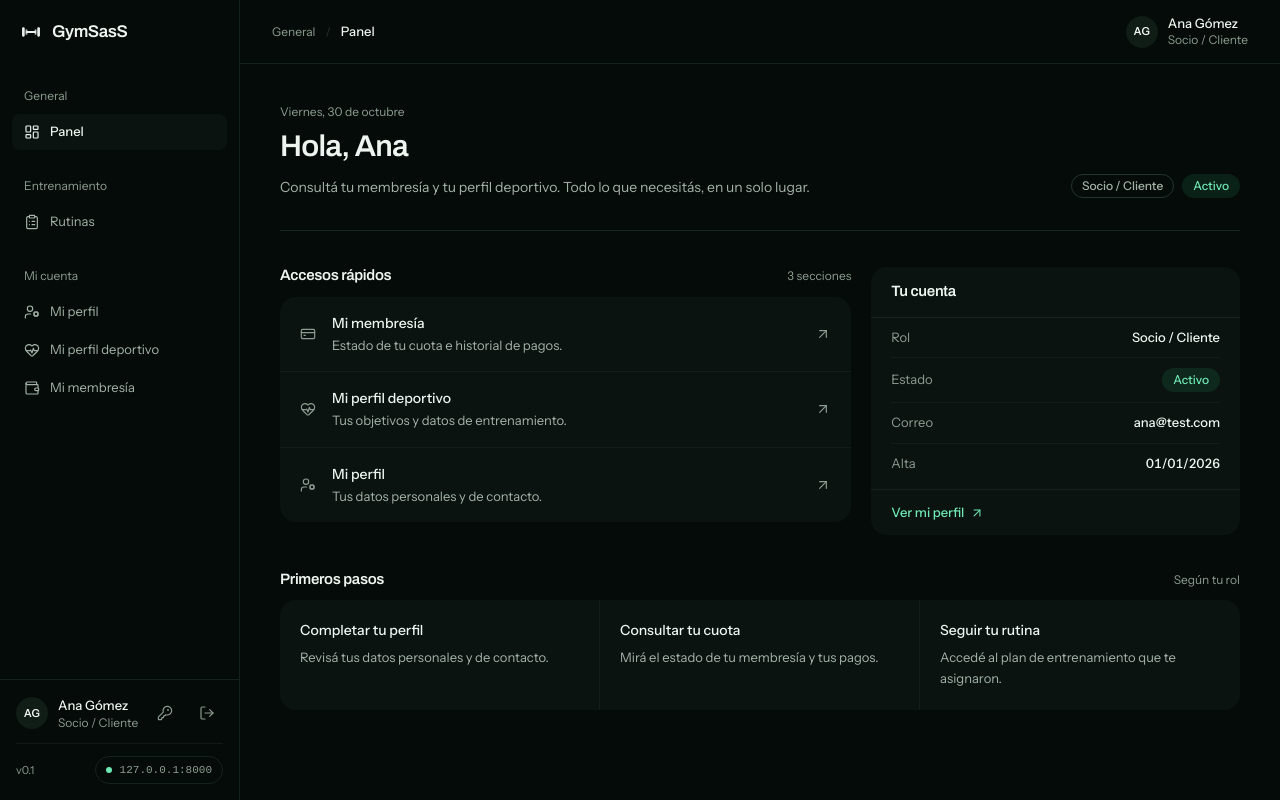
Test: flujo de autenticación › muestra el error del backend si la contraseña actual es incorrecta
Expected: the heading "Hola, Ana" is shown, [280,130,408,162]
Click the button named "Cambiar contraseña" at (165, 713), box [149,697,181,729]
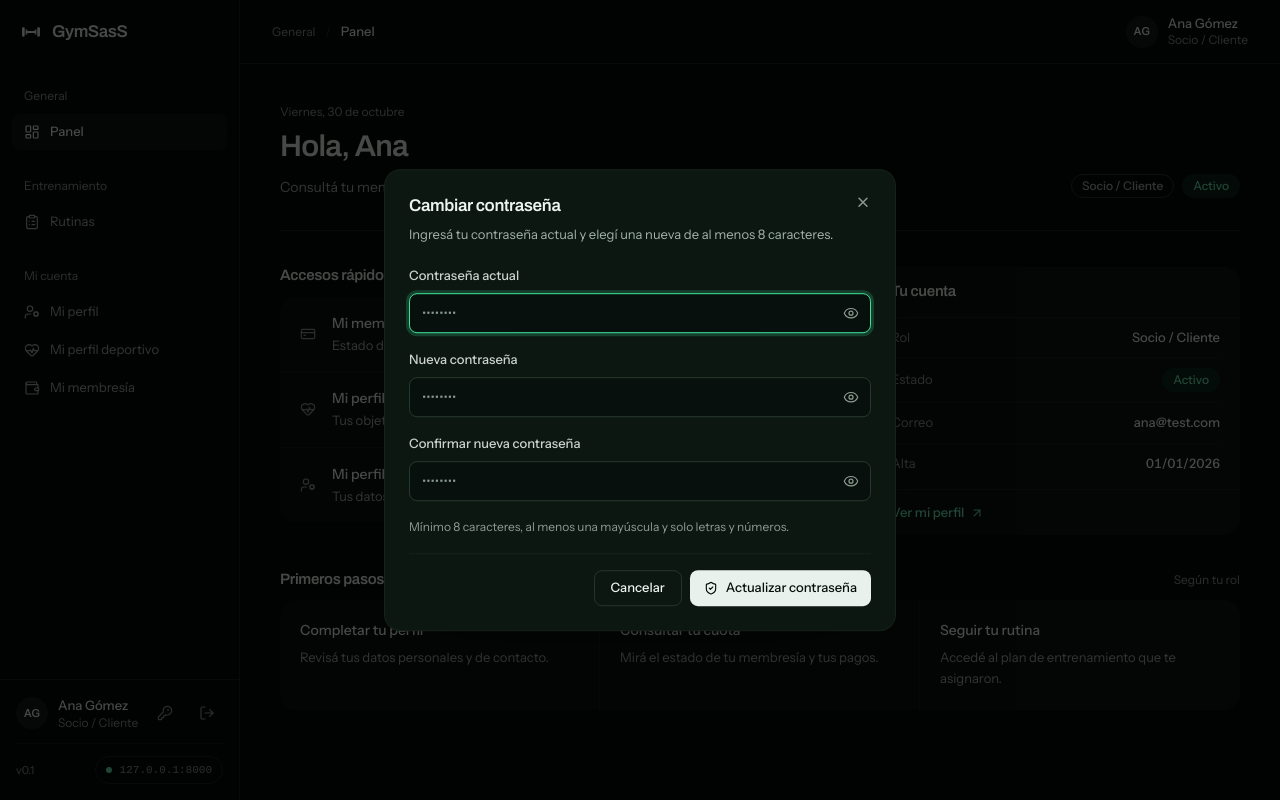
Type "incorrecta" into the password field labelled "Contraseña actual" at (640, 313), box [409,293,871,333]
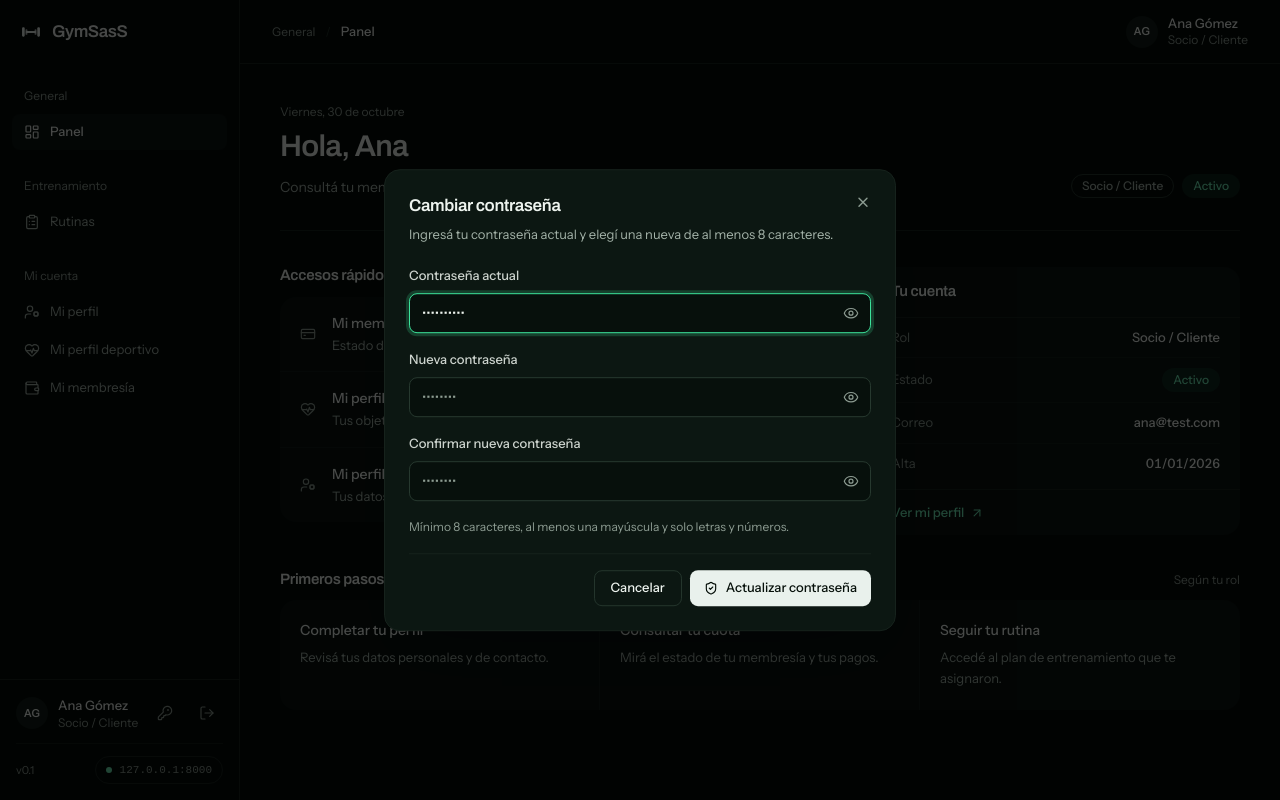
Type "Nueva1234" into the password field labelled "Nueva contraseña" at (640, 397), box [409,377,871,417]
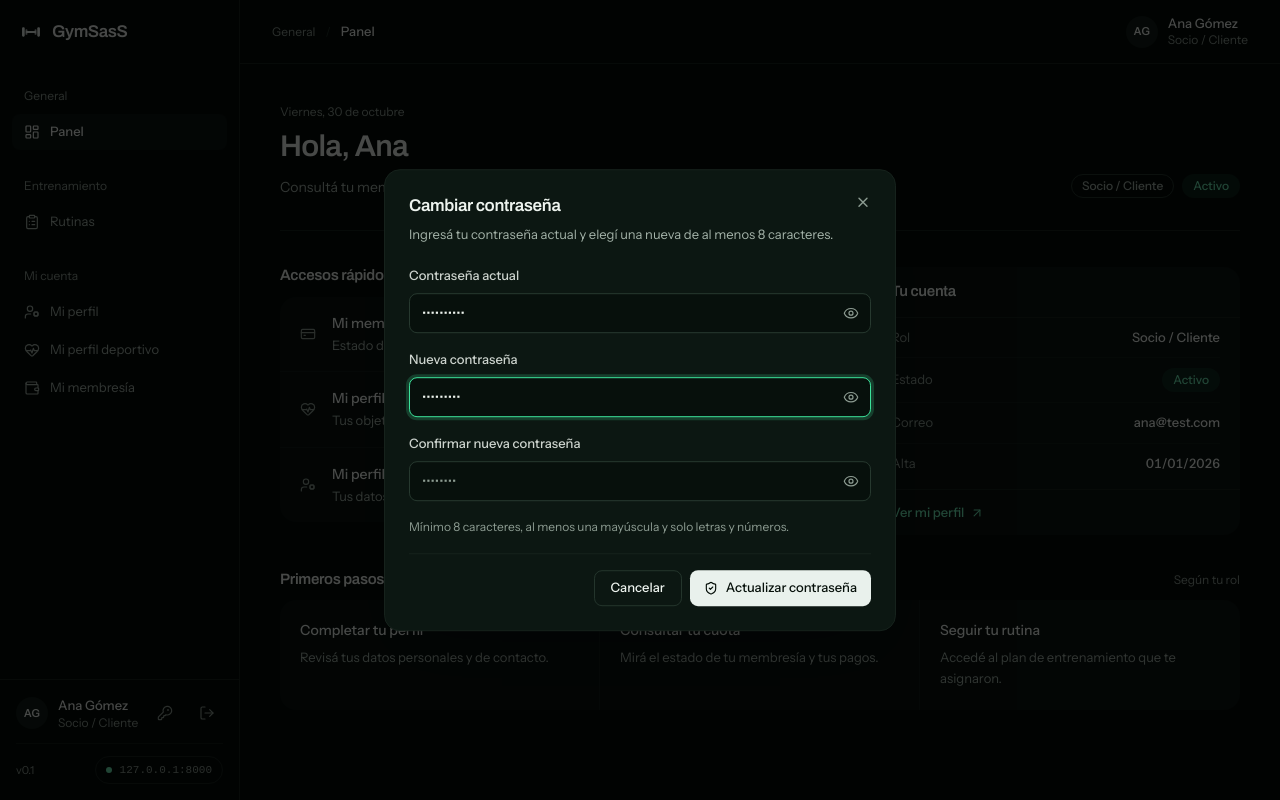
Type "Nueva1234" into the password field labelled "Confirmar nueva contraseña" at (640, 481), box [409,461,871,501]
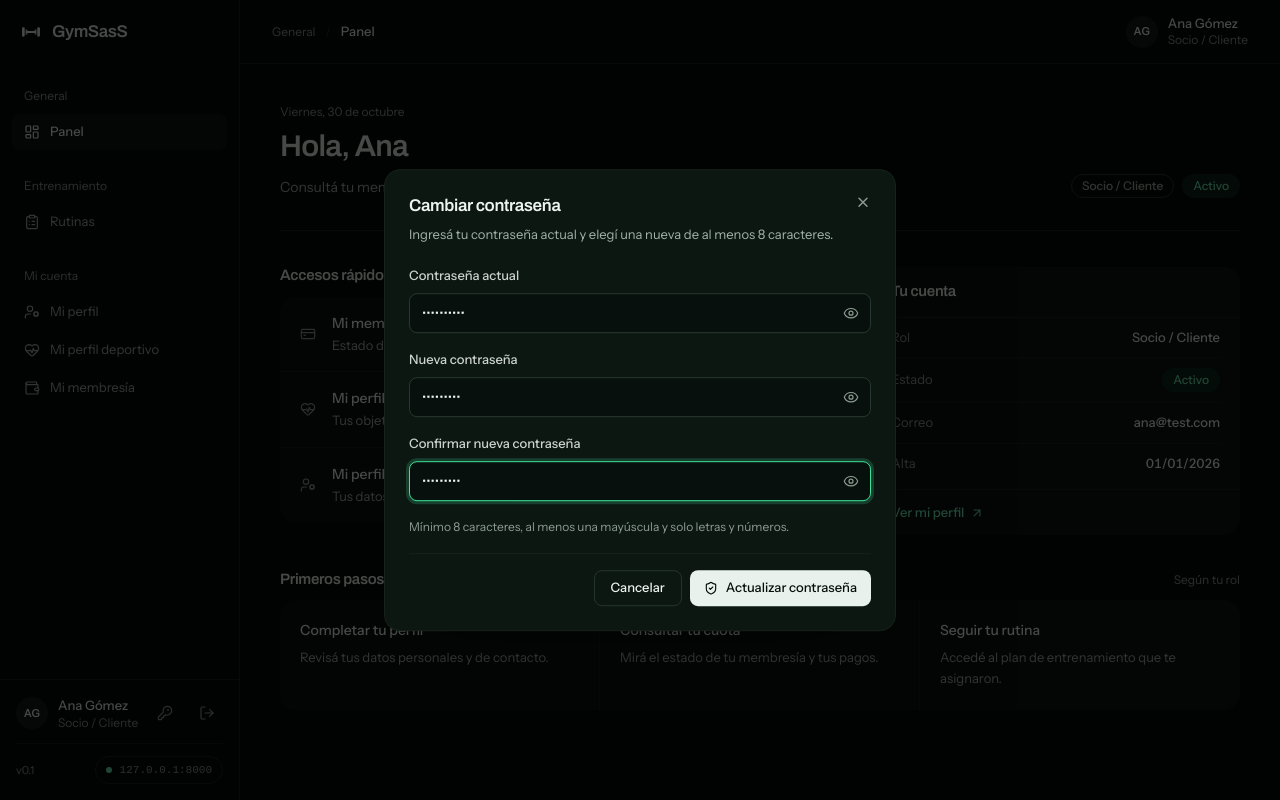
Click the button "Actualizar contraseña" at (780, 588), box [690,570,871,606]
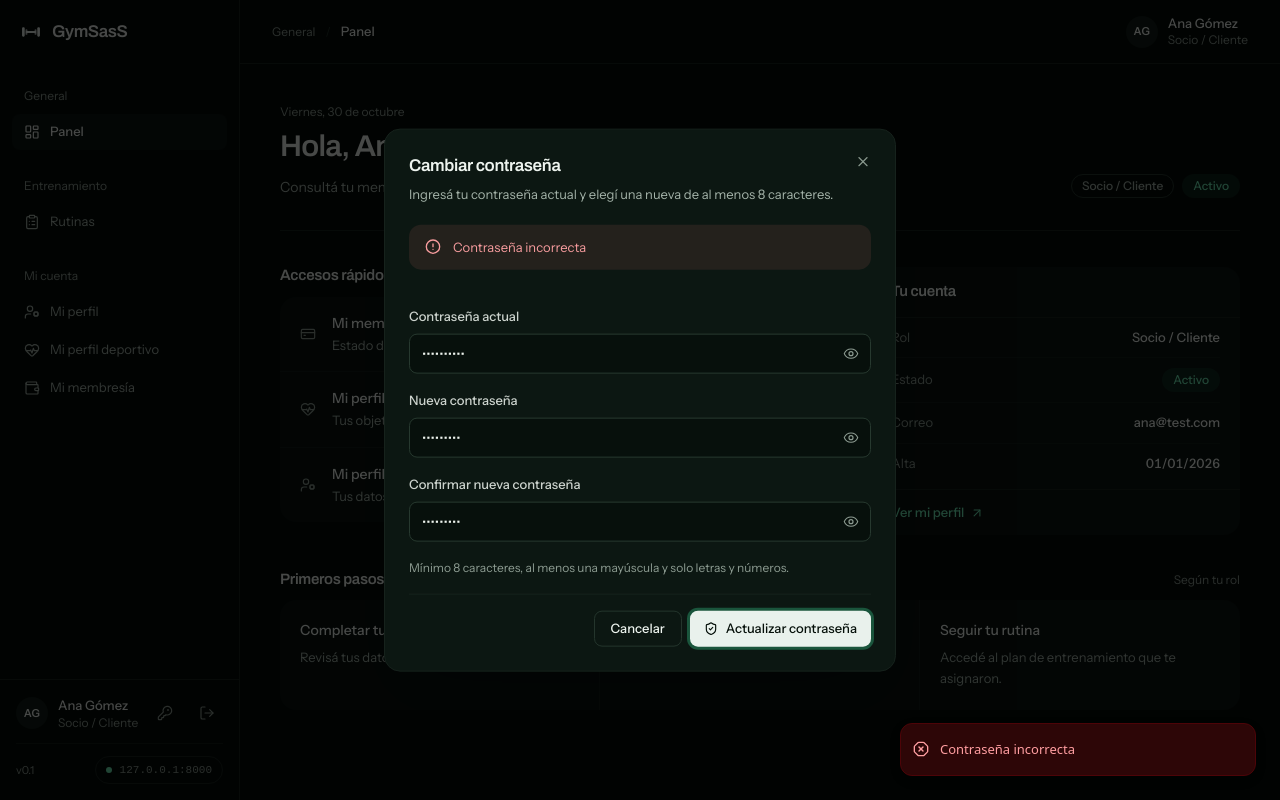
Expected: the text "Contraseña incorrecta" below "Consultar tu cuota" is shown, [940,740,1075,758]
